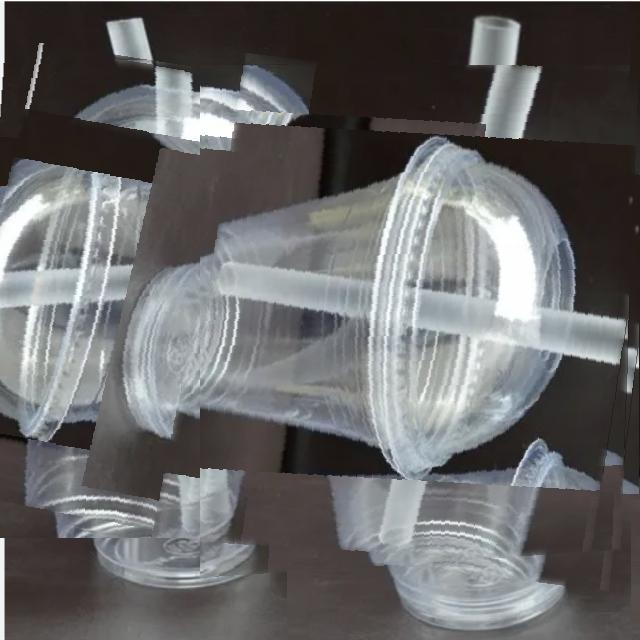recyclable: (200, 65, 640, 579), (0, 56, 417, 538)
